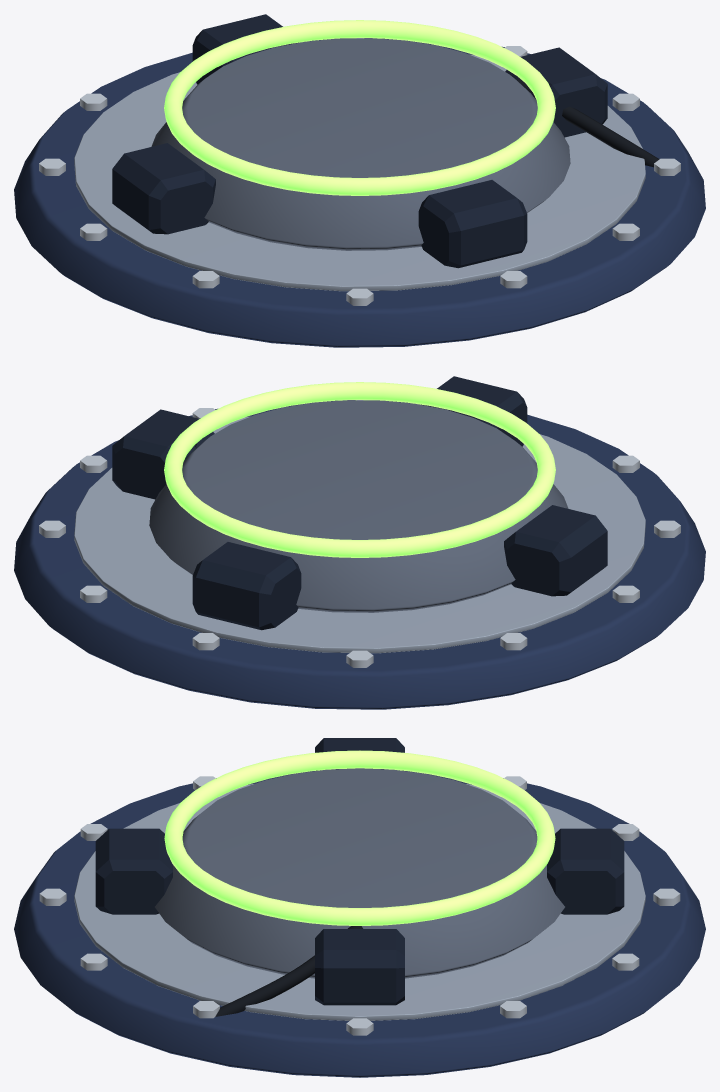
File: socket_ground_base.glb
3 views of the same model, one above another, from view 1: azimuth 30°, elevation 25°; view 2: azimuth 150°, elevation 25°; view 3: azimuth 270°, elevation 25° (orthographic).
Parts seen in each view (by area): view 1: socket_ground_base_mount, socket_ground_base_plate, socket_ground_base_inlay, socket_ground_base_mount_ring, socket_ground_base_clamp1, socket_ground_base_clamp2, socket_ground_base_bolts, socket_ground_base_clamp0, socket_ground_base_clamp3, socket_ground_base_feed; view 2: socket_ground_base_mount, socket_ground_base_plate, socket_ground_base_inlay, socket_ground_base_mount_ring, socket_ground_base_clamp3, socket_ground_base_clamp2, socket_ground_base_clamp0, socket_ground_base_bolts, socket_ground_base_clamp1; view 3: socket_ground_base_mount, socket_ground_base_plate, socket_ground_base_inlay, socket_ground_base_mount_ring, socket_ground_base_clamp0, socket_ground_base_clamp1, socket_ground_base_clamp3, socket_ground_base_bolts, socket_ground_base_feed, socket_ground_base_clamp2.
Part boxes in pixels (x1,y1,x2,y2): socket_ground_base_mount: (151,38,570,250); socket_ground_base_plate: (14,38,705,347); socket_ground_base_inlay: (74,54,645,291); socket_ground_base_mount_ring: (164,20,555,195); socket_ground_base_clamp1: (418,180,527,268); socket_ground_base_clamp2: (112,143,215,234); socket_ground_base_bolts: (39,38,680,305); socket_ground_base_clamp0: (505,47,607,137); socket_ground_base_clamp3: (192,14,298,84); socket_ground_base_feed: (517,78,659,167); socket_ground_base_mount: (149,400,568,612); socket_ground_base_plate: (14,400,705,709); socket_ground_base_inlay: (74,416,645,653); socket_ground_base_mount_ring: (164,382,555,557); socket_ground_base_clamp3: (192,542,301,630); socket_ground_base_clamp2: (504,505,607,596); socket_ground_base_clamp0: (112,409,214,499); socket_ground_base_bolts: (39,400,680,667); socket_ground_base_clamp1: (421,376,527,446); socket_ground_base_mount: (155,768,564,978); socket_ground_base_plate: (14,771,705,1077); socket_ground_base_inlay: (74,784,645,1020); socket_ground_base_mount_ring: (164,750,555,925); socket_ground_base_clamp0: (315,929,404,1005); socket_ground_base_clamp1: (95,828,172,914); socket_ground_base_clamp3: (547,828,624,914); socket_ground_base_bolts: (39,776,680,1035); socket_ground_base_feed: (215,926,362,1016); socket_ground_base_clamp2: (315,738,404,770).
Bounding box in the file's own units: 2.3 × 0.38 × 2.3.
